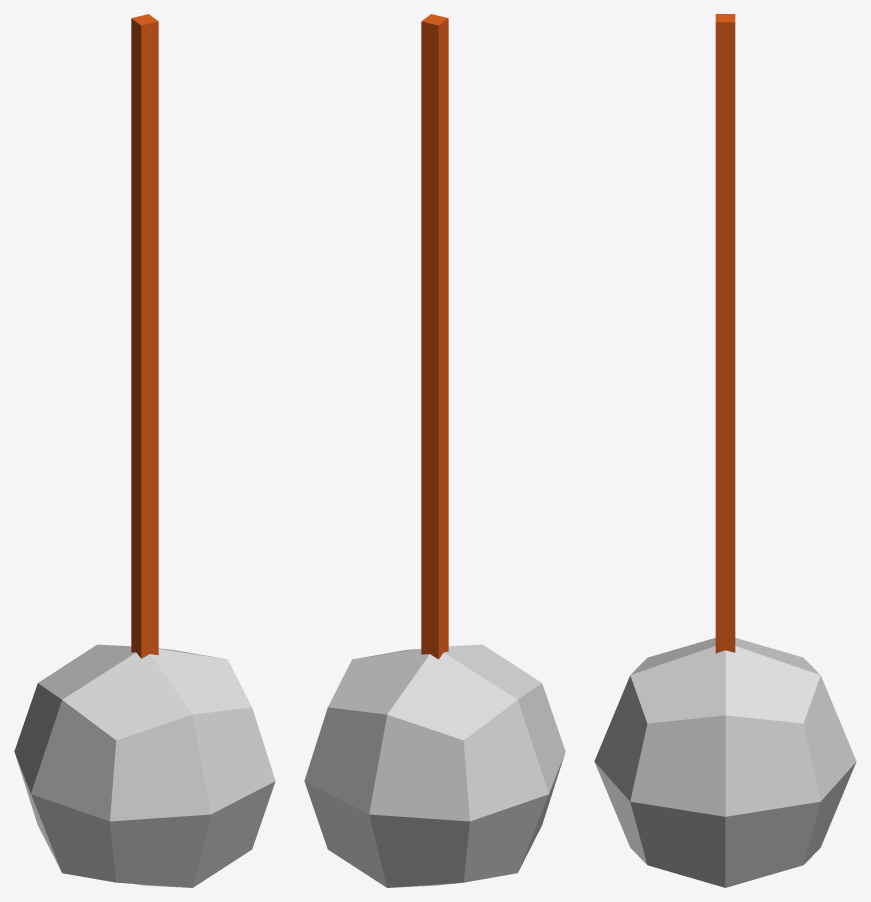
The model's file is Pendulo.fbx.
3 renders of one model, left to right at view 1: azimuth 30°, elevation 25°; view 2: azimuth 150°, elevation 25°; view 3: azimuth 270°, elevation 25°, orthographic.
Parts seen in each view (by area): view 1: Cube.001, Cube; view 2: Cube.001, Cube; view 3: Cube.001, Cube.
Part boxes in pixels (x1,y1,x2,y2): Cube.001: [14, 644, 275, 887]; Cube: [131, 14, 158, 658]; Cube.001: [304, 644, 565, 887]; Cube: [421, 14, 448, 659]; Cube.001: [594, 638, 856, 887]; Cube: [715, 14, 735, 653].
Bounding box in the file's own units: 2629 × 9533 × 2629.
